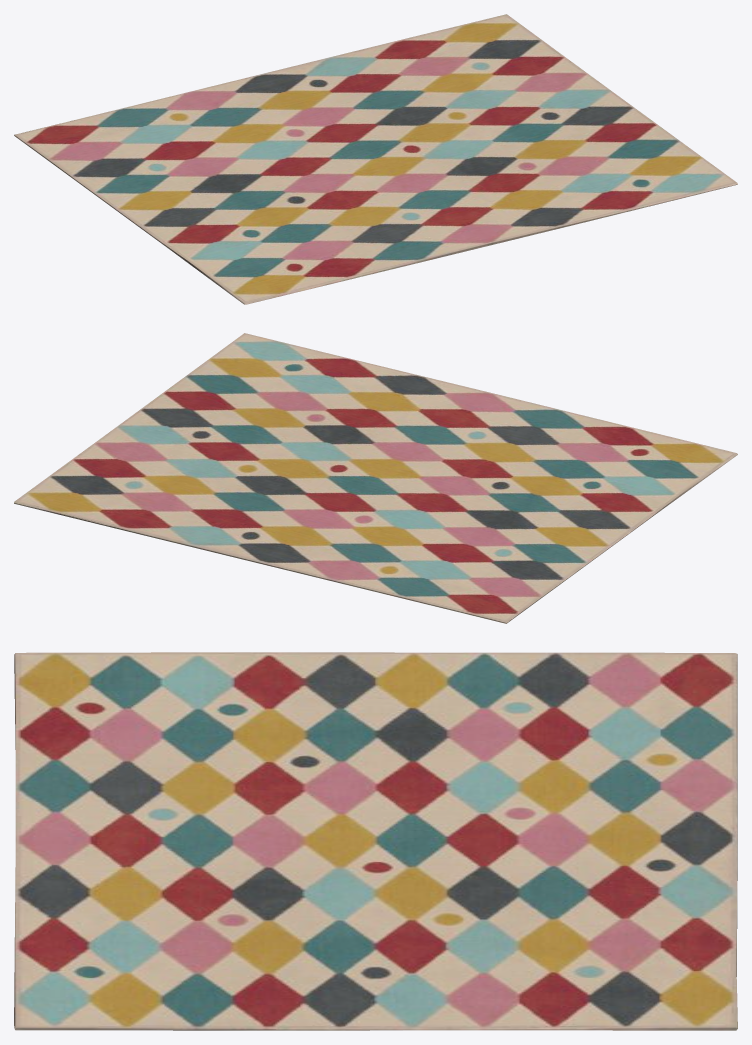
File: 06 - BUSENKEL Rug - harlequin patternmulticolour 130x160 cm.glb
3 views of the same model, one above another, from view 1: azimuth 30°, elevation 25°; view 2: azimuth 150°, elevation 25°; view 3: azimuth 270°, elevation 25° (orthographic). The views are drawn at different scales.
Visible parts, largest first — view 1: ProcessedMeshNode; view 2: ProcessedMeshNode; view 3: ProcessedMeshNode.
Boxes of the visible parts, x1,y1,x2,y2 form: ProcessedMeshNode: (14,14,737,304); ProcessedMeshNode: (14,333,737,623); ProcessedMeshNode: (14,652,737,1030).
Bounding box in the file's own units: 1.6 × 0.00729 × 1.3.
1 material, 1 textured.
